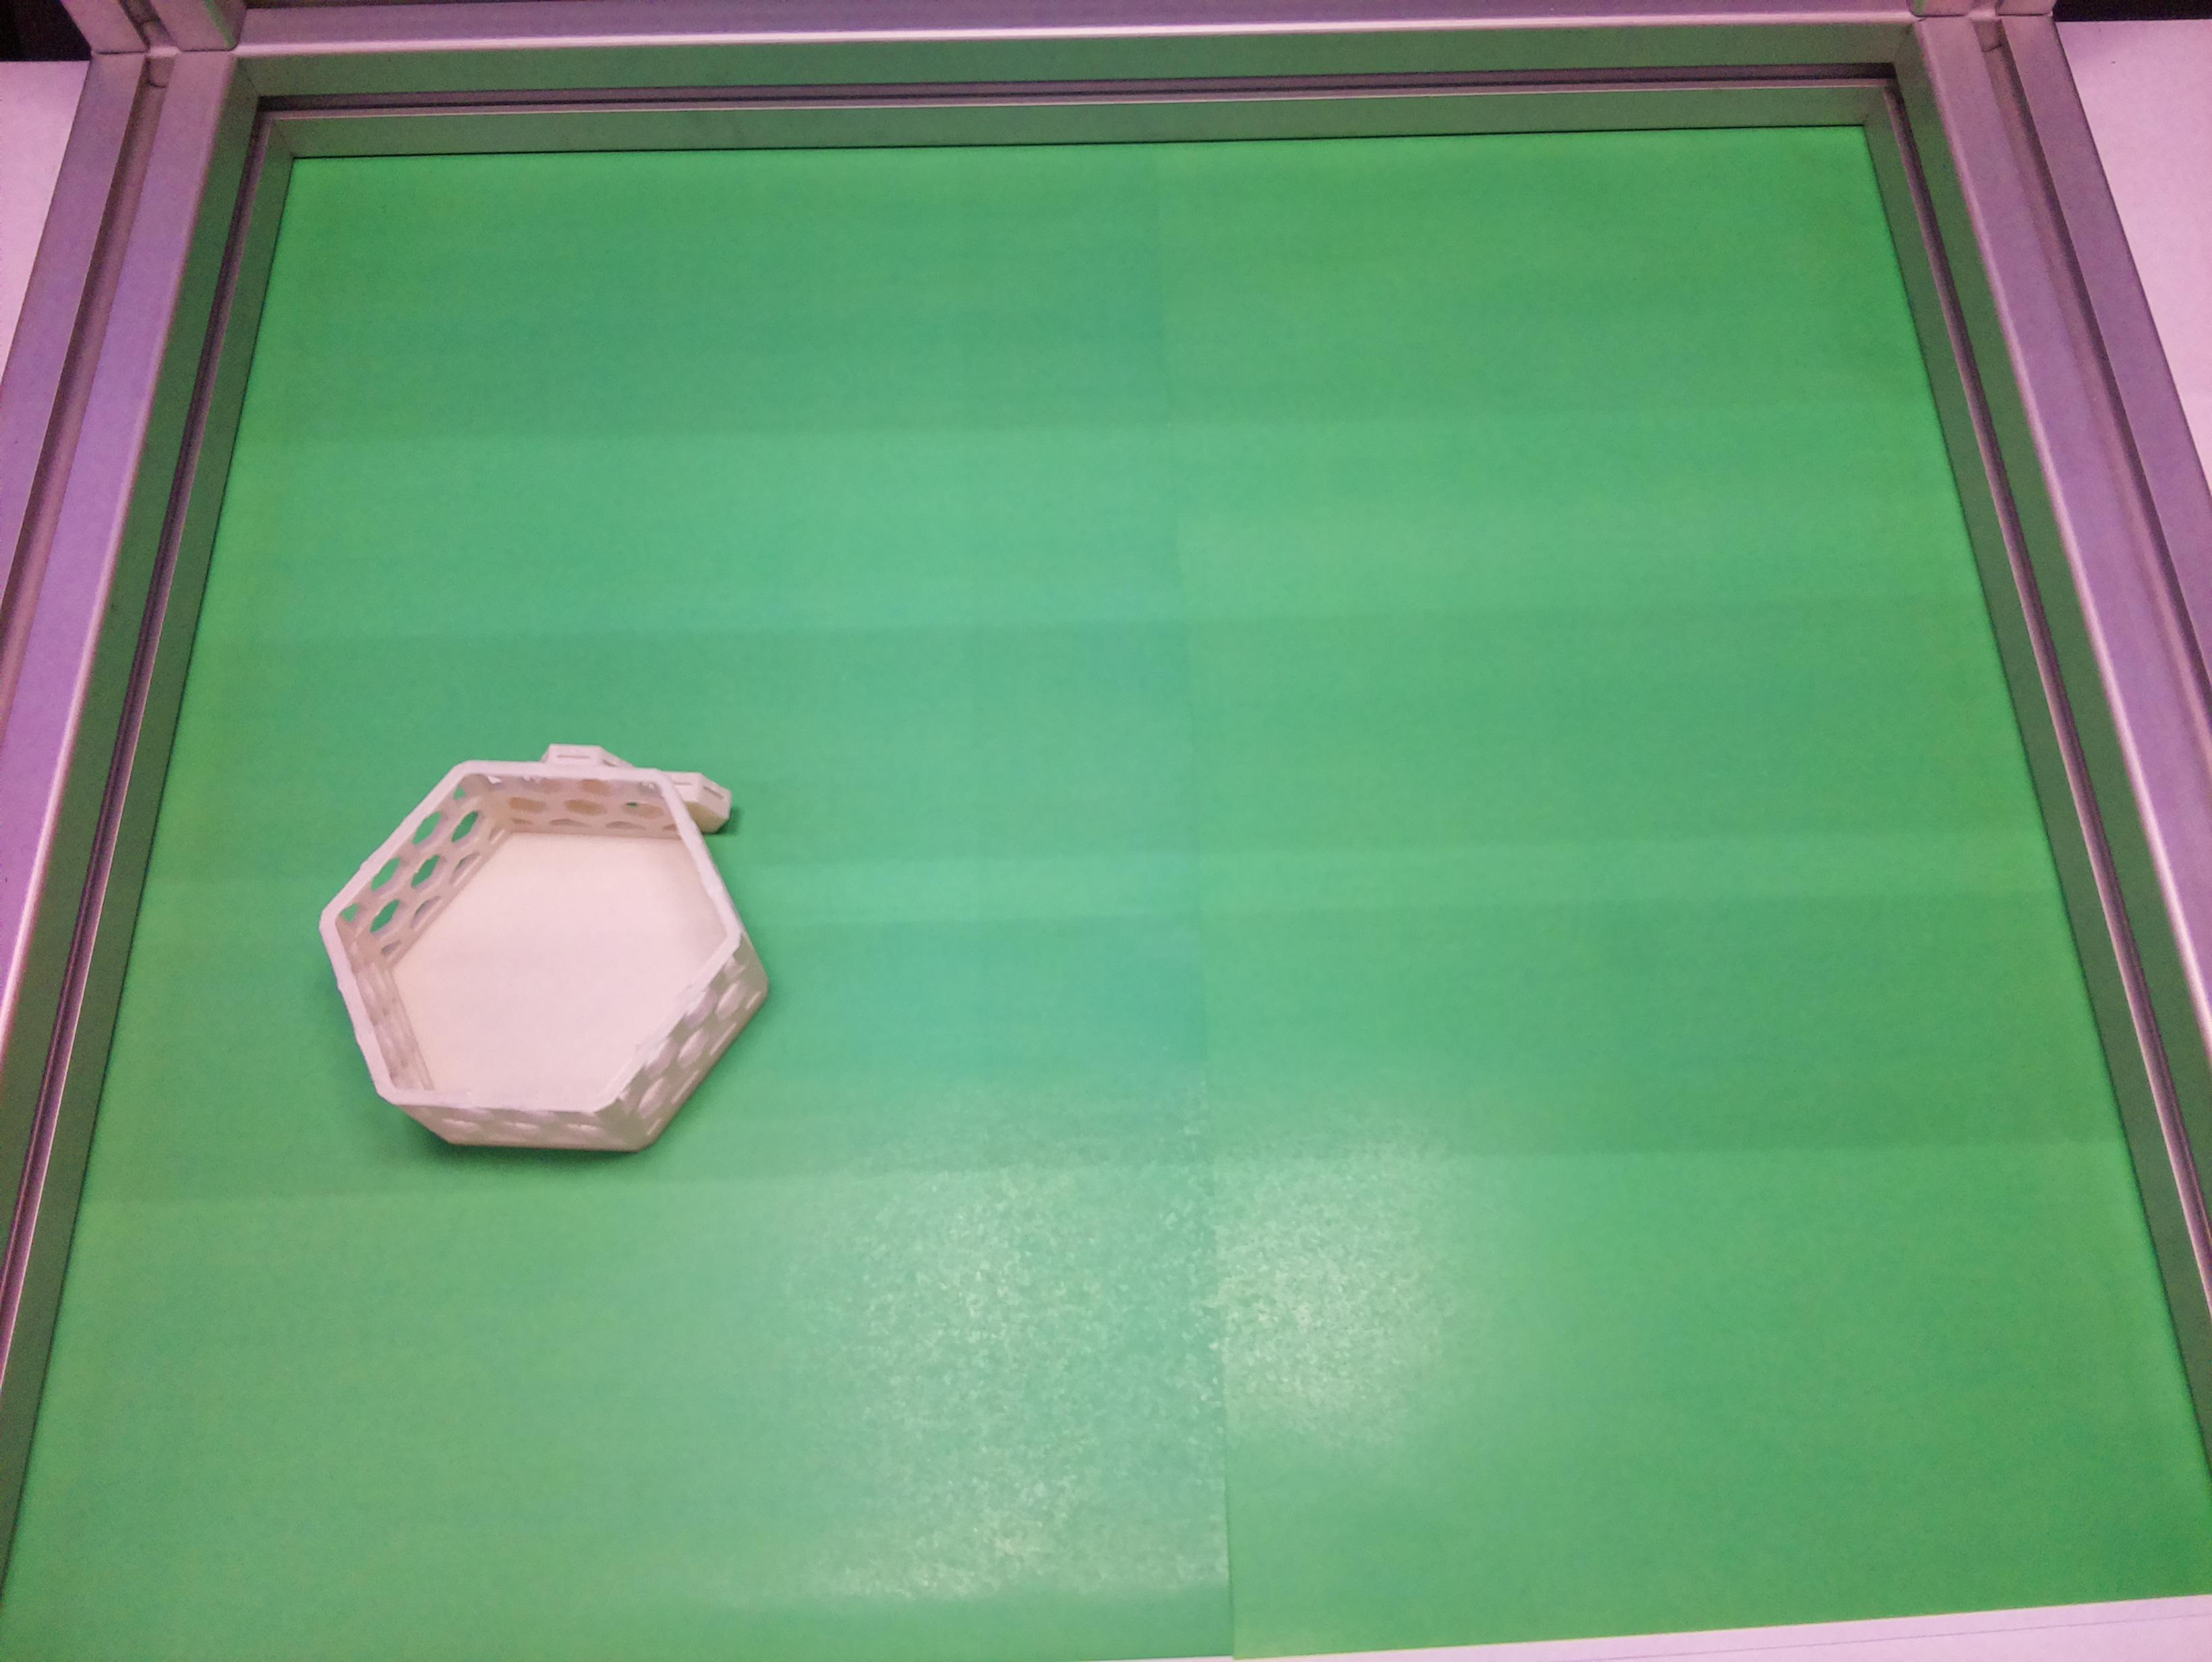bottle_holder: (295, 712, 794, 1201)
